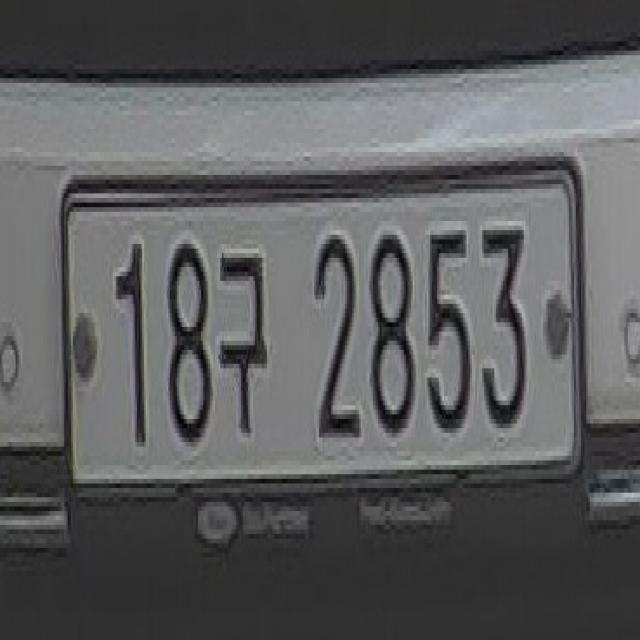1: (104, 221, 161, 474)
2: (312, 221, 363, 465)
3: (474, 207, 530, 447)
5: (423, 207, 472, 442)
8: (368, 207, 418, 451), (164, 221, 212, 465)
gu: (213, 221, 276, 451)
license_plate: (57, 138, 590, 571)
